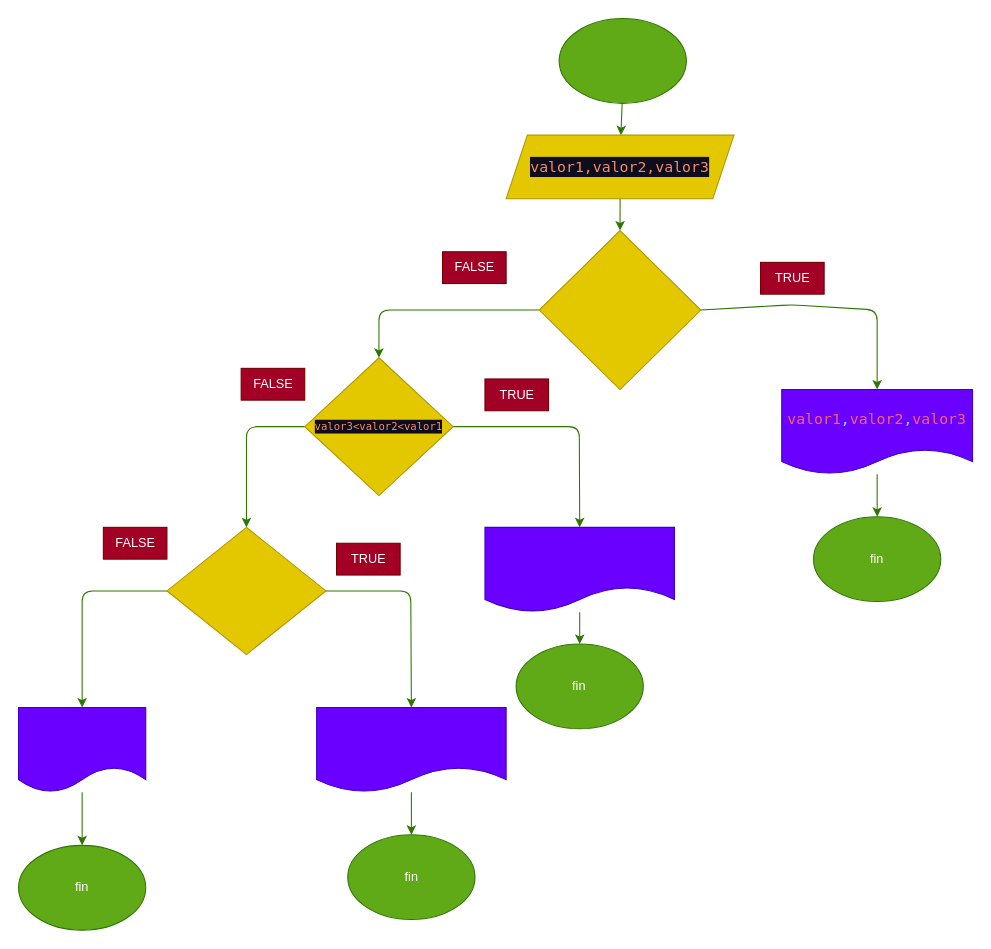
Image size: 991x949. Some labels were removed from this diagram. The shapes that lost their labels are listed below. From the top down, each one's centre as x and y in pixels, then its label:
At point (622, 60): "incio".
At point (619, 309): "valor1<valor2<valor3".
At point (579, 569): "valor3 , valor2 , valor1".
At point (246, 590): "valor1<valor3<valor2".
At point (81, 749): "el codigo esta mal".
At point (411, 749): "valor1 , valor3 , valo2".
